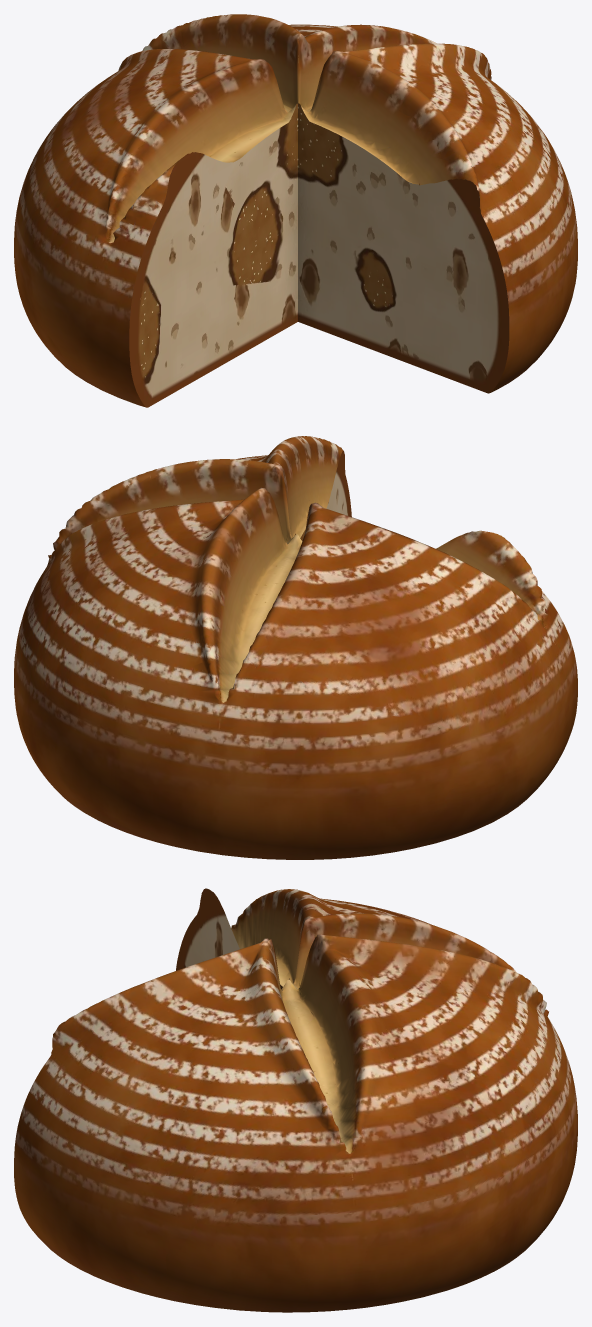
Rendered from campagne--fig-dried.glb.
The picture shows the model from 3 angles, top to bottom: view 1: azimuth 30°, elevation 25°; view 2: azimuth 150°, elevation 25°; view 3: azimuth 270°, elevation 25°; orthographic projection. The views are drawn at different scales.
Parts seen in each view (by area): view 1: campagne_fig-dried; view 2: campagne_fig-dried; view 3: campagne_fig-dried.
Boxes of the visible parts, left/top/right/bottom form: campagne_fig-dried: left=14, top=14, right=577, bottom=407; campagne_fig-dried: left=14, top=436, right=577, bottom=859; campagne_fig-dried: left=14, top=888, right=577, bottom=1312.
Size of the model in its own units: 0.9987 by 0.5303 by 0.9733.
Materials: 1 (1 with a texture image).
